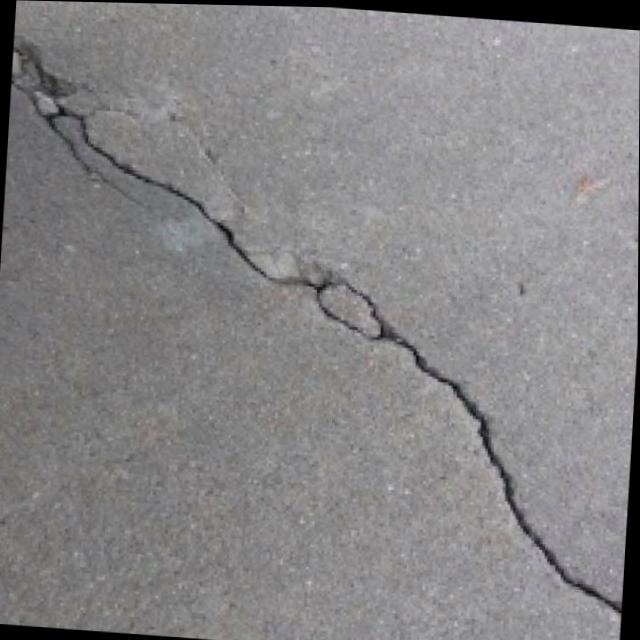Crack: (0, 13, 640, 640)
